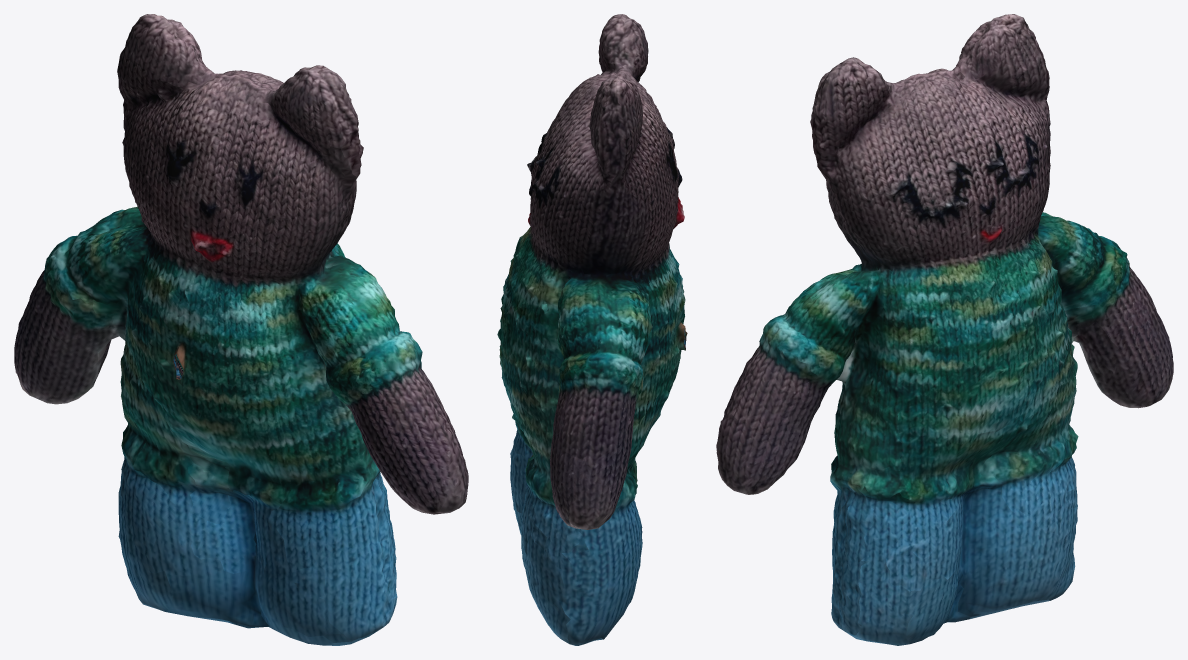
Rendered from Teddy_editedBlender.fbx.
3 renders of one model, left to right at view 1: azimuth 30°, elevation 25°; view 2: azimuth 150°, elevation 25°; view 3: azimuth 270°, elevation 25°, orthographic. The views are drawn at different scales.
Parts seen in each view (by area): view 1: object.001; view 2: object.001; view 3: object.001.
Part boxes in pixels (x1,y1,x2,y2): object.001: (14,14,468,645); object.001: (497,14,687,645); object.001: (716,14,1173,645).
Bounding box in the file's own units: 33.21 × 80.21 × 58.
